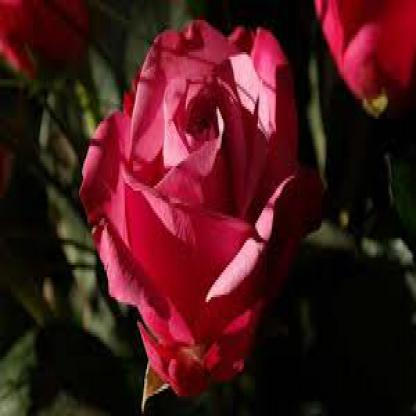Rose-Mawar: (75, 9, 326, 398)
